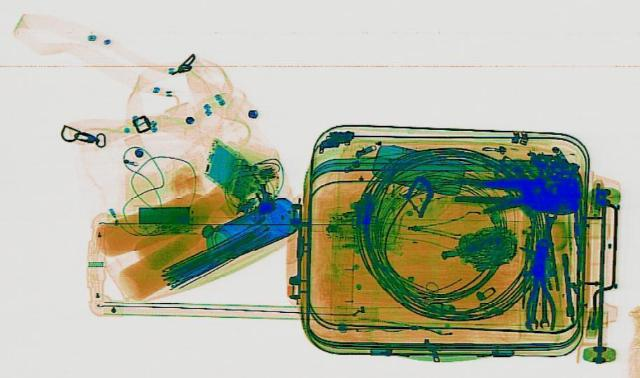Pliers: (524, 241, 556, 328)
Wrench: (524, 294, 538, 326), (540, 294, 548, 325)
